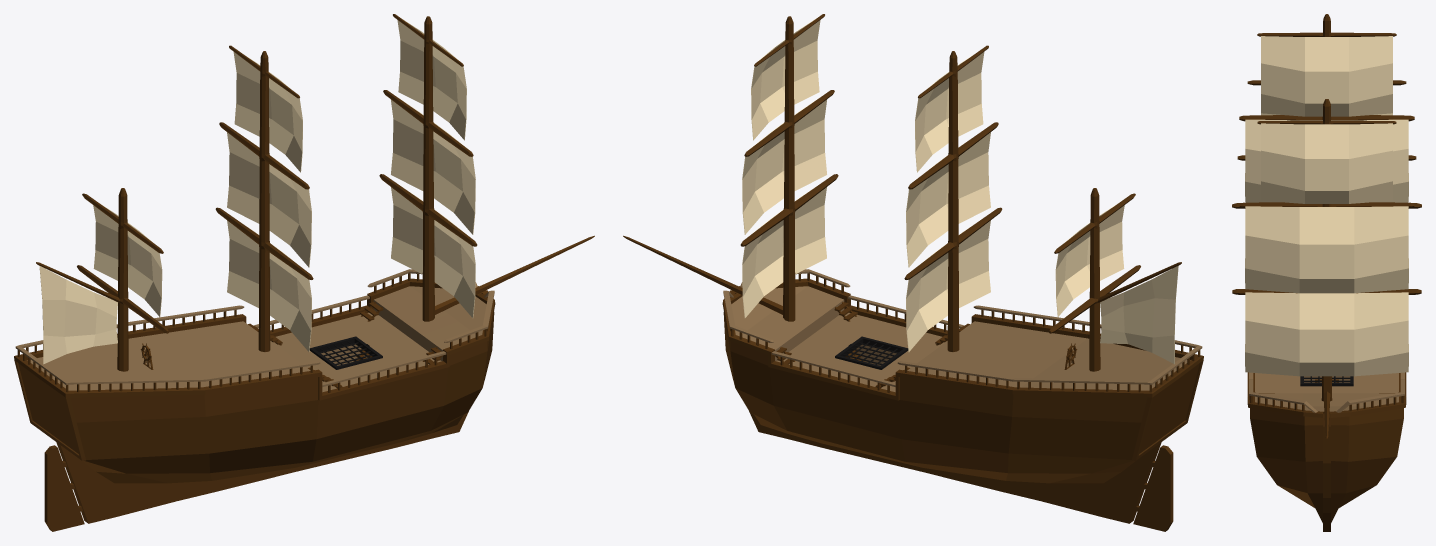
File: EnglishFinal.fbx
3 views of the same model, side by side, from view 1: azimuth 30°, elevation 25°; view 2: azimuth 150°, elevation 25°; view 3: azimuth 270°, elevation 25° (orthographic).
Visible parts, largest first — view 1: Ship body, Gate; view 2: Ship body, Gate; view 3: Ship body, Gate.
Boxes of the visible parts, x1,y1,x2,y2 form: Ship body: (14, 14, 594, 531); Gate: (309, 336, 382, 369); Ship body: (623, 14, 1203, 531); Gate: (835, 336, 908, 369); Ship body: (1232, 14, 1421, 531); Gate: (1300, 376, 1353, 386).
Size of the model in its own units: 1947 by 4808 by 6580.
